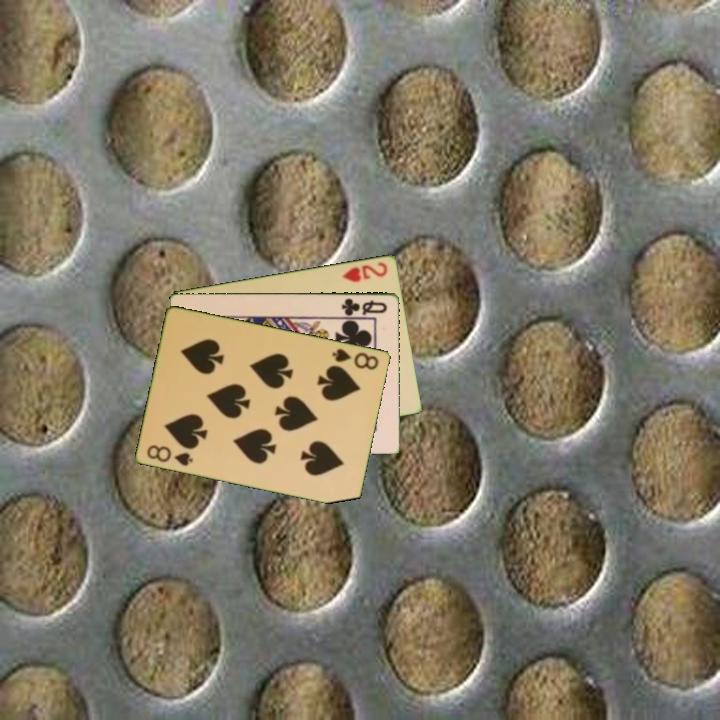2h: (339, 258, 391, 285)
8s: (329, 344, 382, 372), (144, 441, 196, 469)
Qc: (338, 295, 390, 318)
